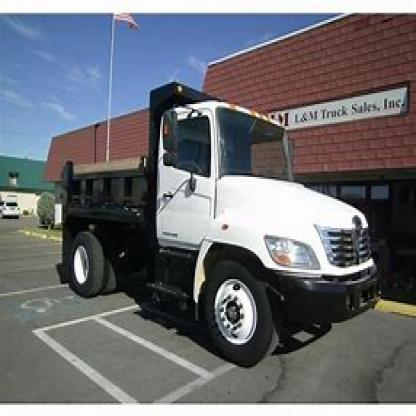dump_truck: (41, 69, 396, 356)
